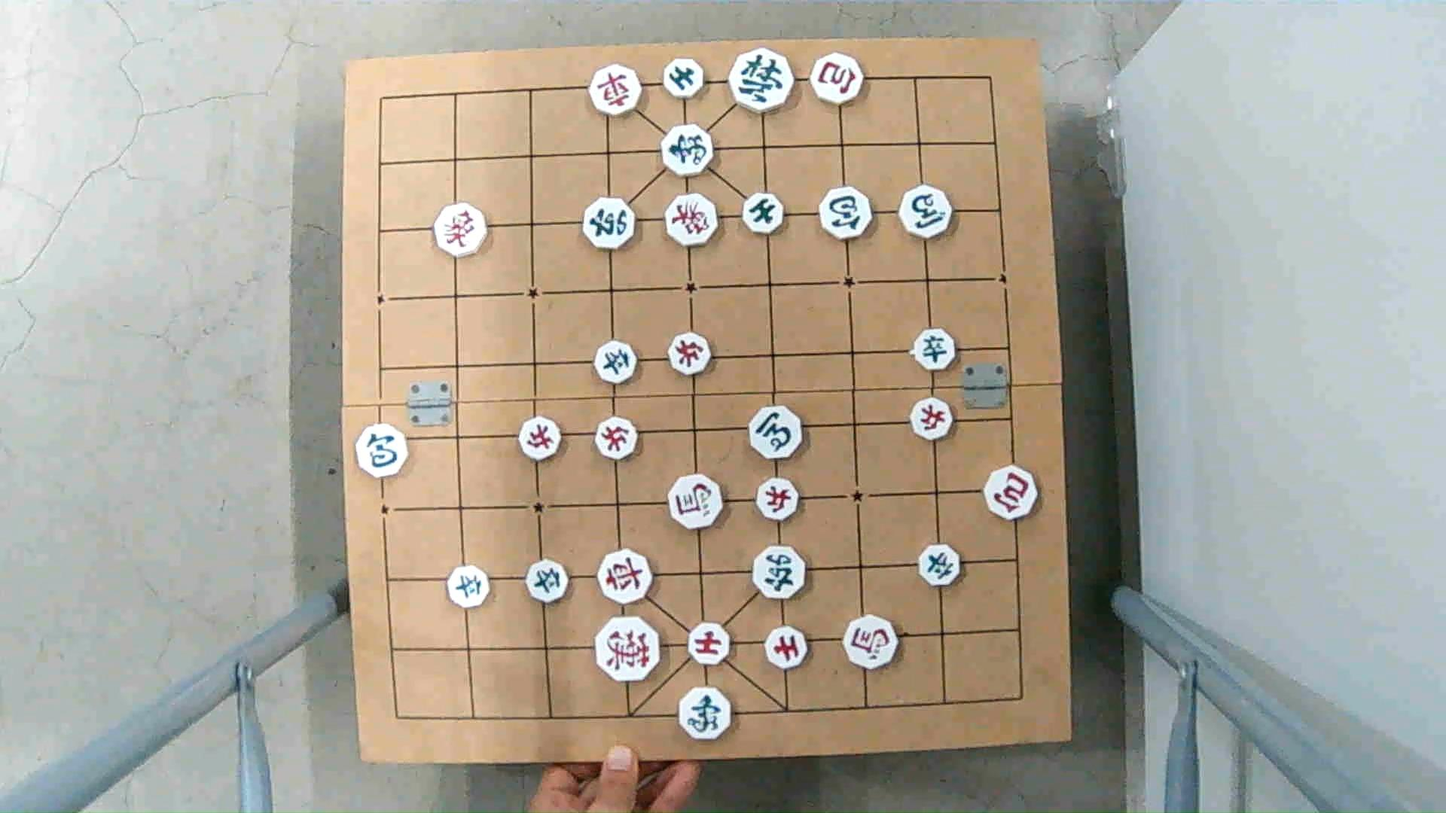cha_green: (583, 198, 637, 249), (752, 547, 806, 598)
cha_red: (599, 553, 651, 603), (590, 66, 641, 114)
jol_green: (445, 566, 493, 604), (523, 561, 572, 598), (912, 330, 959, 368), (917, 547, 965, 584), (594, 343, 638, 382)
jol_red: (517, 416, 564, 460), (753, 481, 801, 521), (596, 416, 639, 460), (666, 334, 714, 372), (908, 402, 956, 438)
ma_green: (750, 407, 803, 461), (901, 185, 953, 237)
ma_red: (668, 477, 723, 529), (841, 620, 898, 666)
po_green: (353, 427, 411, 476), (819, 187, 873, 238)
po_red: (811, 55, 865, 102), (988, 469, 1035, 519)
sa_green: (744, 193, 787, 235), (663, 59, 703, 99)
sa_red: (764, 626, 808, 671), (686, 625, 735, 662)
sang_green: (663, 125, 712, 173), (682, 690, 728, 737)
sang_red: (662, 194, 718, 245), (432, 207, 489, 254)
wang_green: (731, 50, 790, 104)
wang_red: (595, 620, 657, 680)
